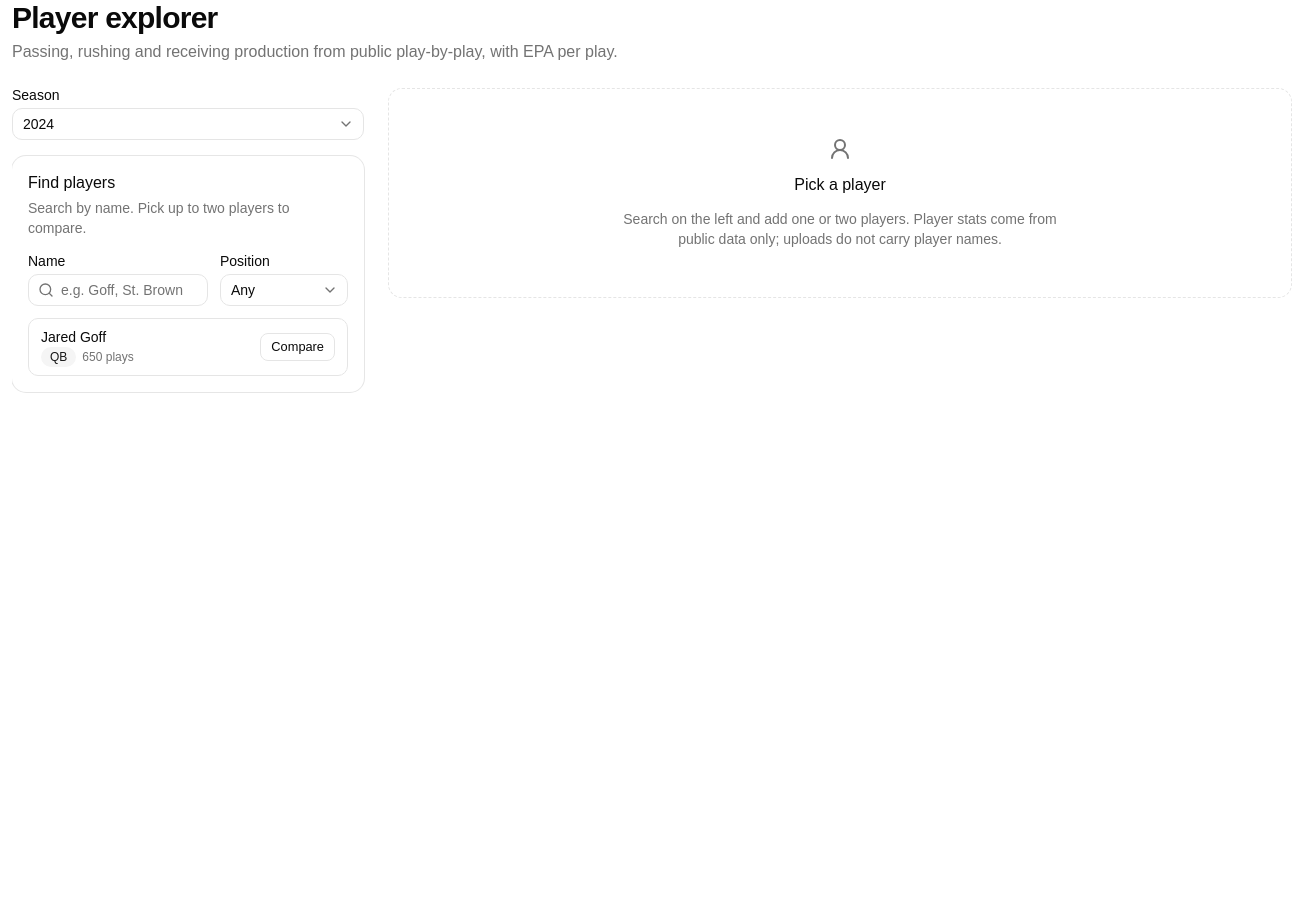
Scenario: PlayersPage › searches by name, adds a player and shows stats with limitations
expect the text "Pick a player" is shown: met, box [794,173,886,197]
Type "Goff" into the field labelled "Name" at (118, 290), box [28,274,208,306]
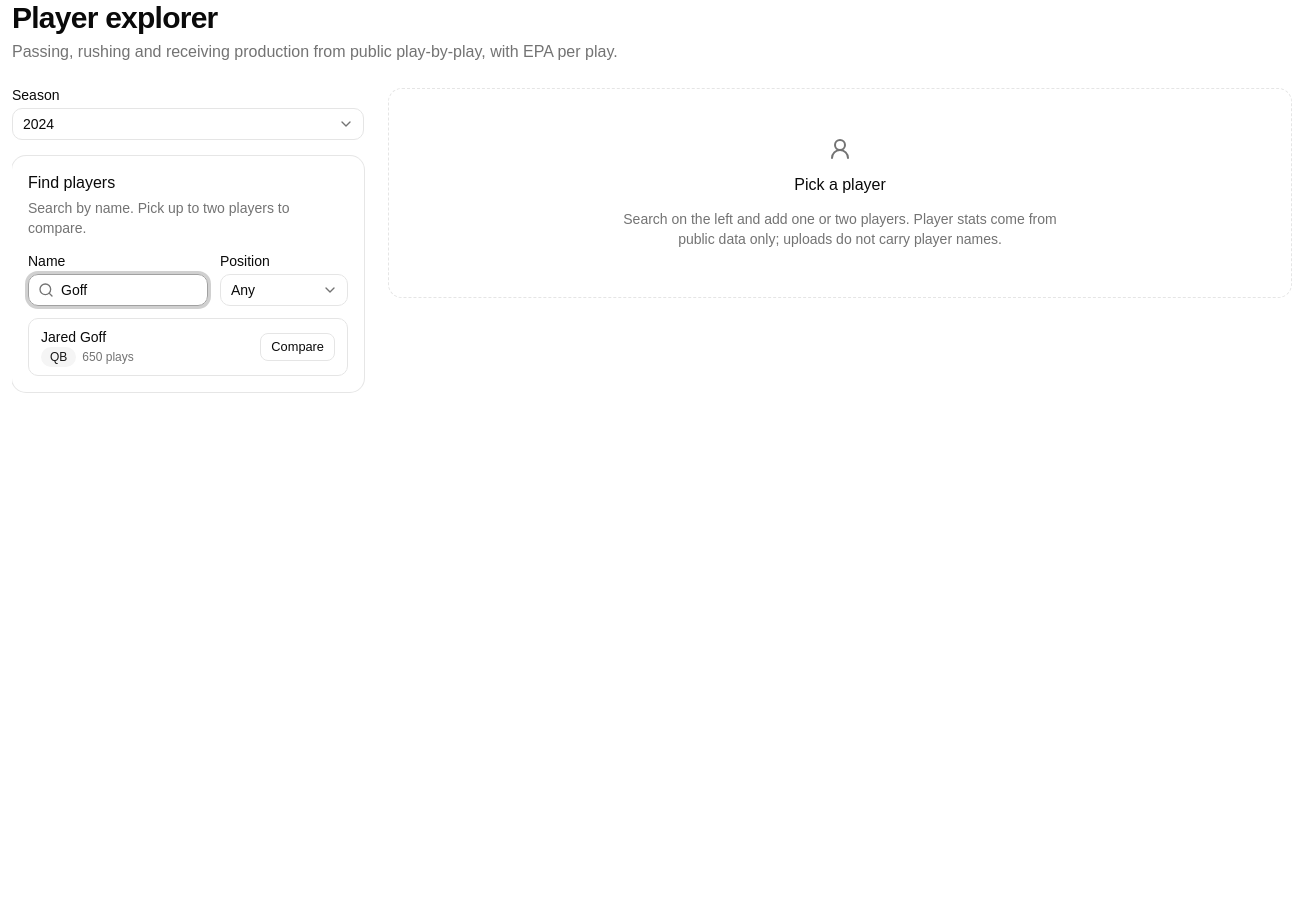
Click the button with aria-label "Compare Jared Goff" at (298, 347), box [260,333,335,361]
(page scrolled)
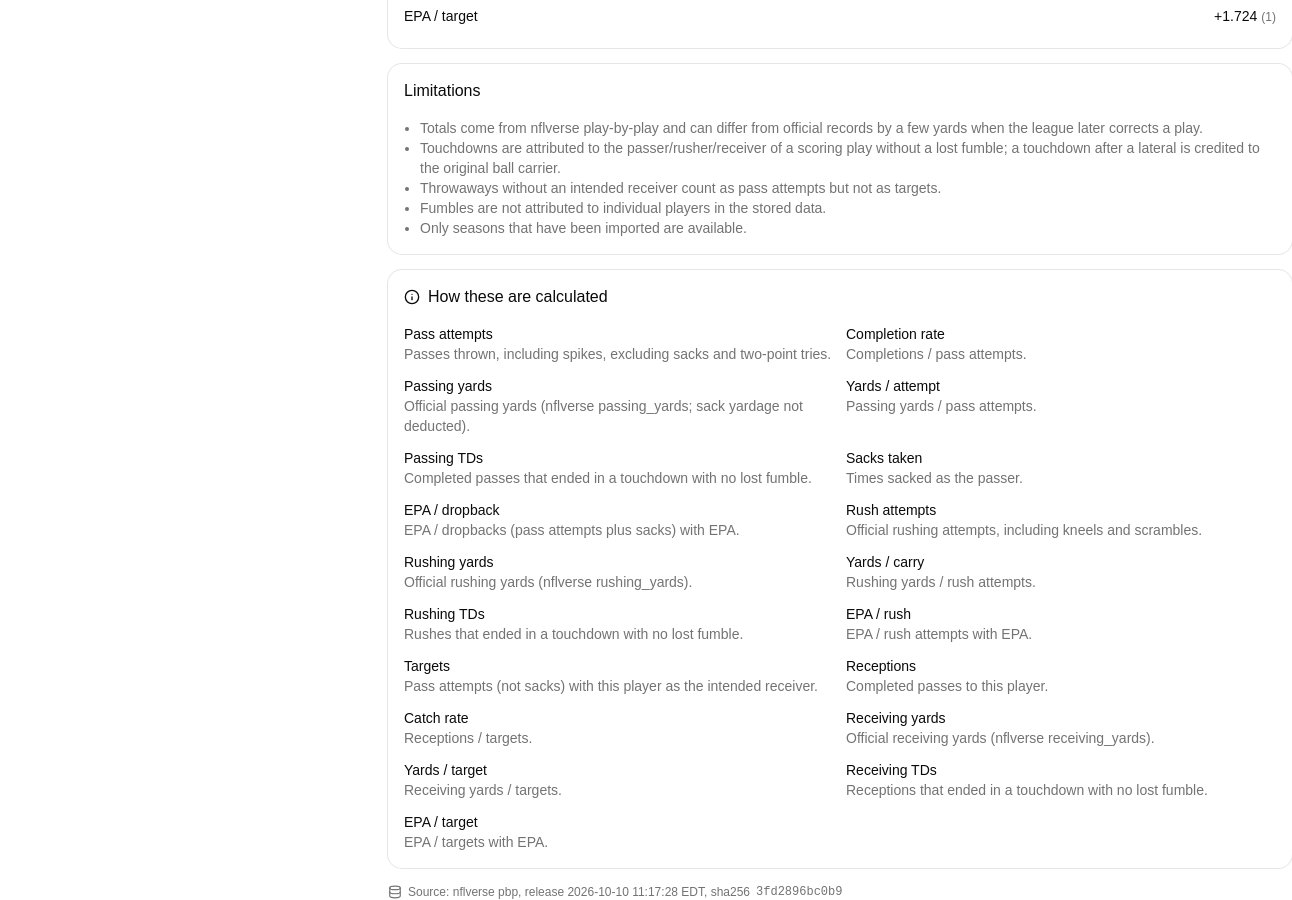
expect the text "Limitations" is shown: met, box [404,82,480,99]
expect the text "EPA / dropback" is shown: met, box [404,502,500,518]
